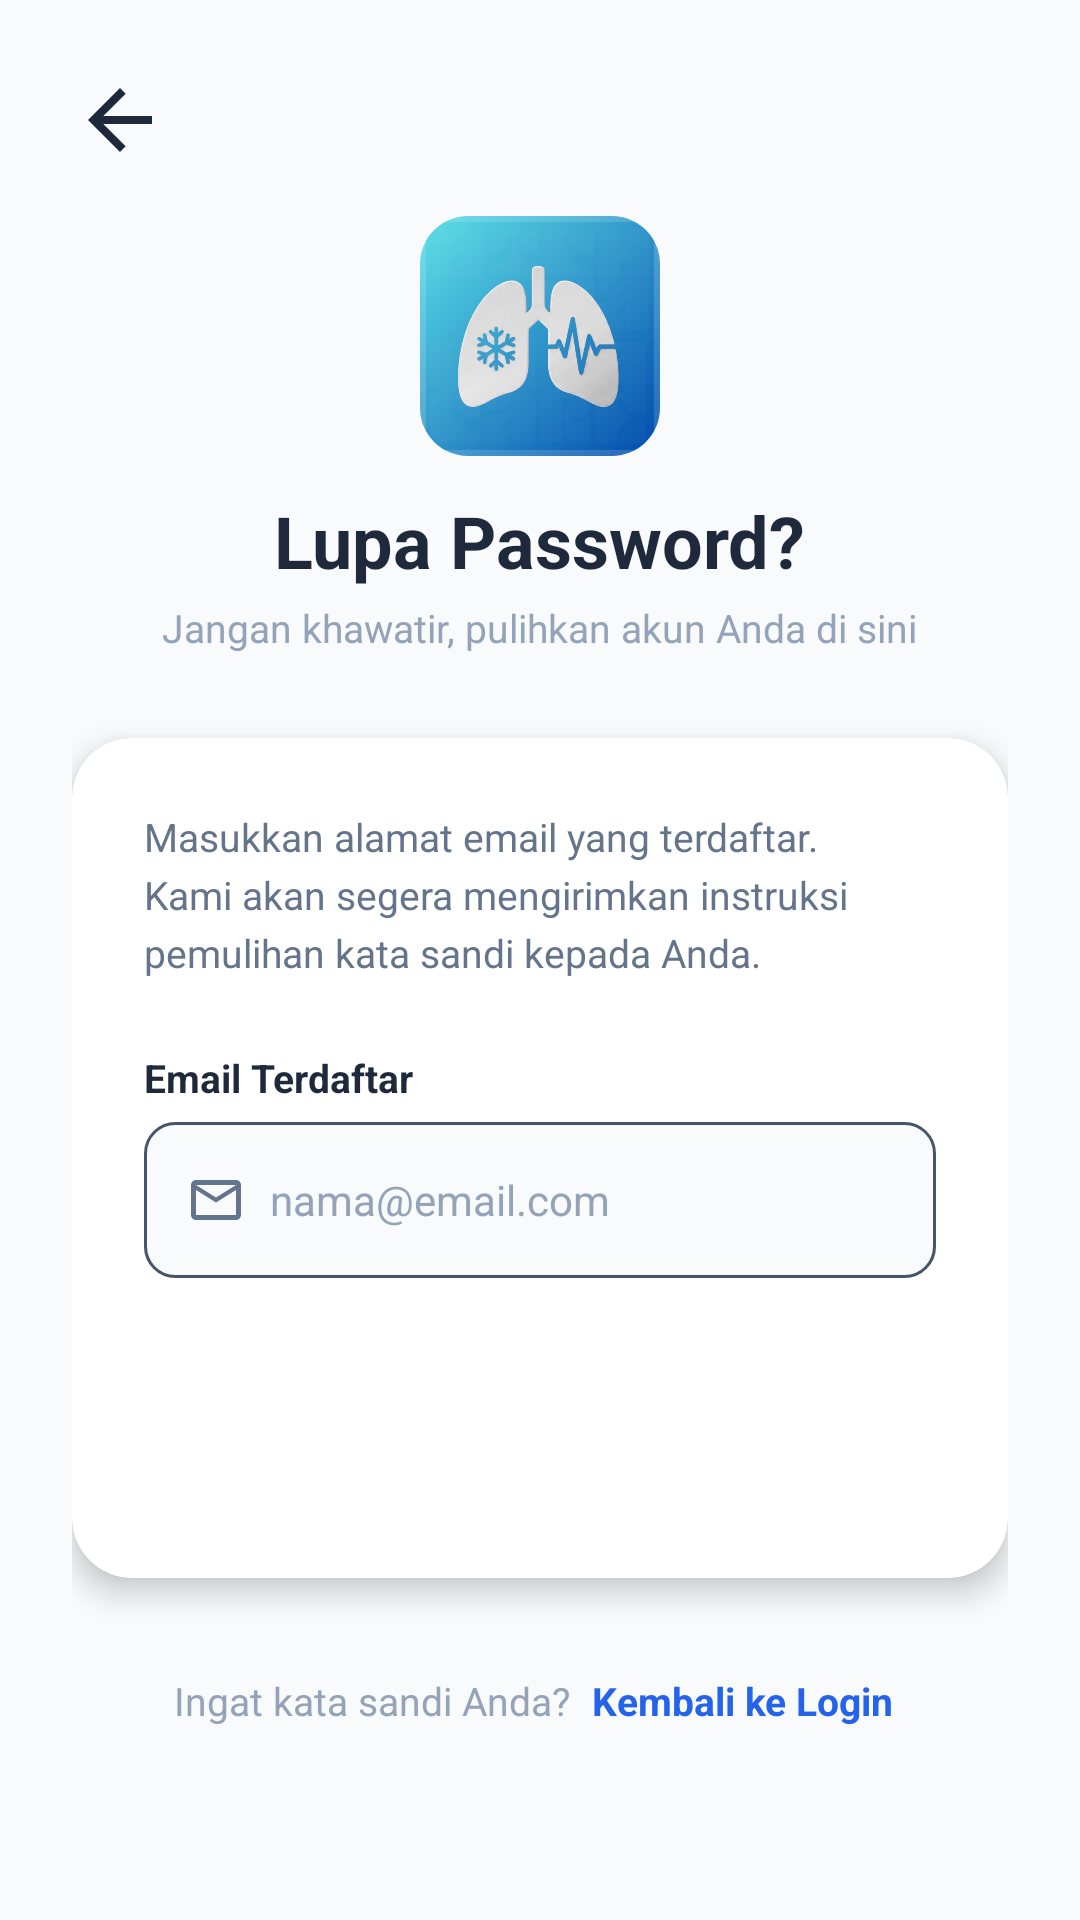

Screen size 1080*1920. Icon name, then its box in pixels as box=[x1, y1, x2, y2]:
Kembali: box=[88, 88, 152, 152]
